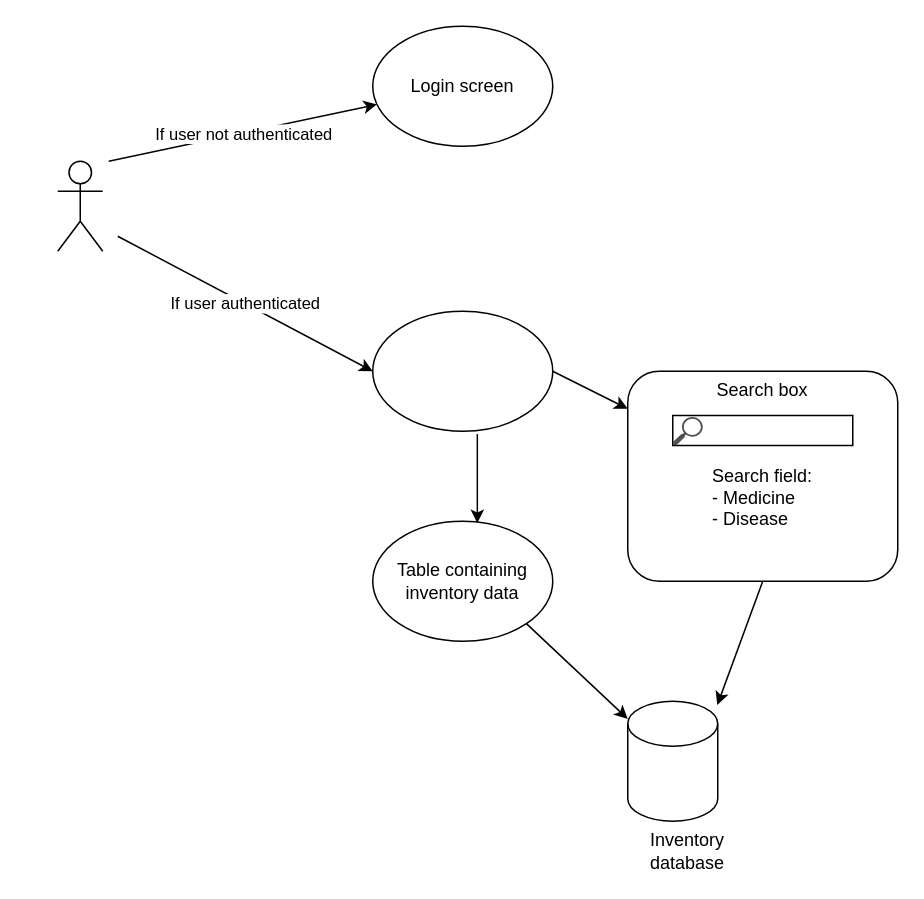
This 924x899 diagram has some shape labels left out. Each missing label, with the centre of its shape:
"Inventory screen of the medicines" goes at point 462,370.
"User (patient)" goes at point 79,205.
